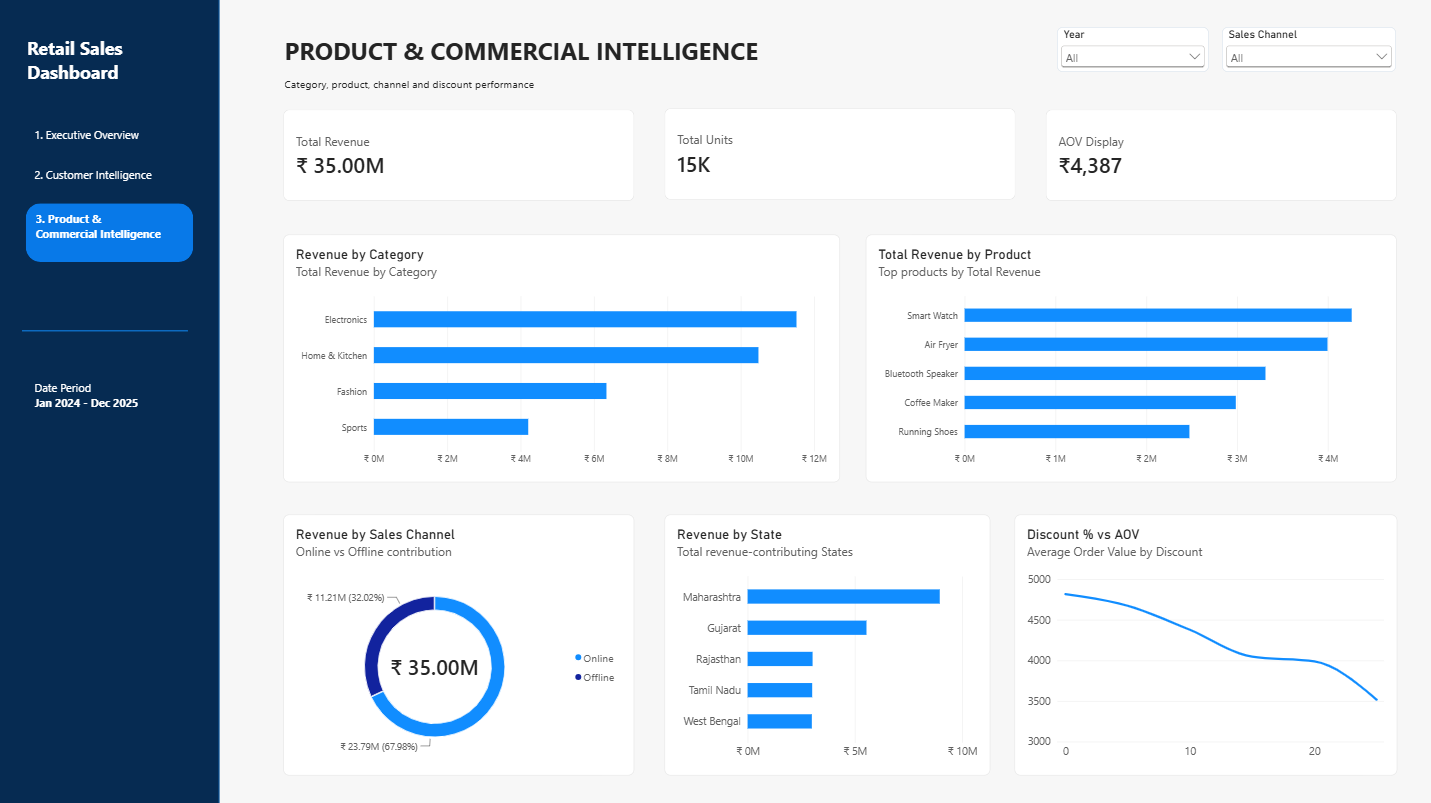

Layout of this report page (visuals, bound fields, positions):
{"tool":"powerbi","page":{"name":"Product & Commercial Intelligence","canvas":[1920,1080],"ordinal":2},"visuals":[{"type":"shape","box":[0,0,296.5,1077.9],"z":0,"group":"g2"},{"type":"slicer","fields":{"Values":["DateTable.Year"]},"box":[1414,40,202.5,60],"z":0},{"type":"group","id":"g1","title":"Group 1","box":[12.2,48.8,277.3,101.2],"z":1000,"group":"g2"},{"type":"textbox","box":[382.5,50,710,100],"z":1000},{"type":"group","id":"g2","title":"Group 6","box":[0,0,296.5,1077.9],"z":2000},{"type":"group","id":"g3","title":"Group 2","box":[37.5,498.8,221.2,86.2],"z":2000,"group":"g2"},{"type":"shape","box":[38.1,206.4,221.5,85.3],"z":3000,"group":"g2"},{"type":"textbox","box":[50,226.7,170,33.3],"z":4000,"group":"g2"},{"type":"group","id":"g4","title":"Group 3","box":[38.3,275,223.3,78.3],"z":5000},{"type":"shape","box":[33.8,435,221.2,20],"z":5000,"group":"g2"},{"type":"slicer","fields":{"Values":["ecommerce_analytics ecommerce_sales_clean.Sales_Channel"]},"box":[1634,40,232,60],"z":6000},{"type":"group","id":"g5","title":"Group 4","box":[33.3,150.6,228.3,60],"z":6000,"group":"g2"},{"type":"cardVisual","fields":{"Data":["ecommerce_analytics ecommerce_sales_clean.Total Revenue"]},"box":[382,150,468,122],"z":7000},{"type":"cardVisual","fields":{"Data":["DateTable.Total Units"]},"box":[890,148,468,122],"z":8000},{"type":"cardVisual","fields":{"Data":["DateTable.AOV Display"]},"box":[1398,150,468,122],"z":9000},{"type":"clusteredBarChart","title":"Revenue by Category","fields":{"Category":["ecommerce_analytics ecommerce_sales_clean.Category"],"Y":["ecommerce_analytics ecommerce_sales_clean.Total Revenue"]},"box":[382,316,742,330],"z":9001},{"type":"clusteredBarChart","fields":{"Category":["ecommerce_analytics ecommerce_sales_clean.Product"],"Y":["ecommerce_analytics ecommerce_sales_clean.Total Revenue"]},"box":[1158,316,708,330],"z":9002},{"type":"donutChart","title":"Revenue by Sales Channel","fields":{"Category":["ecommerce_analytics ecommerce_sales_clean.Sales_Channel"],"Y":["ecommerce_analytics ecommerce_sales_clean.Total Revenue"]},"box":[382,690,468,348],"z":9003},{"type":"clusteredBarChart","title":"Revenue by State","fields":{"Category":["ecommerce_analytics ecommerce_sales_clean.State"],"Y":["ecommerce_analytics ecommerce_sales_clean.Total Revenue"]},"box":[890,690,434,348],"z":9004},{"type":"lineChart","title":"Discount % vs AOV","fields":{"Category":["ecommerce_analytics ecommerce_sales_clean.Discount_Percent"],"Y":["DateTable.Average Order Value"]},"box":[1356,690,510,348],"z":9005},{"type":"shape","box":[12.2,48.8,277.3,101.2],"z":14000,"group":"g7"},{"type":"shape","box":[38.3,275,223.3,78.3],"z":14000,"group":"g6"},{"type":"textbox","box":[40.5,52.8,206.9,73.8],"z":15000,"group":"g7"},{"type":"textbox","box":[51.1,285,180,61.7],"z":15000,"group":"g6"},{"type":"group","id":"g6","title":"Group 7","box":[38.3,275,223.3,78.3],"z":15002,"group":"g4"},{"type":"shape","box":[33.3,150.6,228.3,60],"z":16000,"group":"g5"},{"type":"shape","box":[37.5,498.8,221.5,85.3],"z":17000,"group":"g3"},{"type":"textbox","box":[49.4,173.6,180,23.3],"z":18000,"group":"g5"},{"type":"textbox","box":[49.3,511.2,167.7,62.3],"z":18001,"group":"g3"},{"type":"group","id":"g7","title":"Group 5","box":[12.2,48.8,277.3,101.2],"z":19002,"group":"g1"}]}

Visuals, with their boxes on the page's 1920x1080 design canvas (x1, y1, x2, y2). These are canvas units, not pixel positions in the 1431x803 screenshot, which may show the page scaled, cropped or inside an application window:
shape: rect(0, 0, 296, 1078)
slicer - DateTable.Year: rect(1414, 40, 1616, 100)
"Group 1" group: rect(12, 49, 290, 150)
textbox: rect(382, 50, 1092, 150)
"Group 6" group: rect(0, 0, 296, 1078)
"Group 2" group: rect(38, 499, 259, 585)
shape: rect(38, 206, 260, 292)
textbox: rect(50, 227, 220, 260)
"Group 3" group: rect(38, 275, 262, 353)
shape: rect(34, 435, 255, 455)
slicer - ecommerce_analytics ecommerce_sales_clean.Sales_Channel: rect(1634, 40, 1866, 100)
"Group 4" group: rect(33, 151, 262, 211)
cardVisual - ecommerce_analytics ecommerce_sales_clean.Total Revenue: rect(382, 150, 850, 272)
cardVisual - DateTable.Total Units: rect(890, 148, 1358, 270)
cardVisual - DateTable.AOV Display: rect(1398, 150, 1866, 272)
"Revenue by Category" clusteredBarChart: rect(382, 316, 1124, 646)
clusteredBarChart - ecommerce_analytics ecommerce_sales_clean.Product x ecommerce_analytics ecommerce_sales_clean.Total Revenue: rect(1158, 316, 1866, 646)
"Revenue by Sales Channel" donutChart: rect(382, 690, 850, 1038)
"Revenue by State" clusteredBarChart: rect(890, 690, 1324, 1038)
"Discount % vs AOV" lineChart: rect(1356, 690, 1866, 1038)
shape: rect(12, 49, 290, 150)
shape: rect(38, 275, 262, 353)
textbox: rect(40, 53, 247, 127)
textbox: rect(51, 285, 231, 347)
"Group 7" group: rect(38, 275, 262, 353)
shape: rect(33, 151, 262, 211)
shape: rect(38, 499, 259, 584)
textbox: rect(49, 174, 229, 197)
textbox: rect(49, 511, 217, 574)
"Group 5" group: rect(12, 49, 290, 150)
